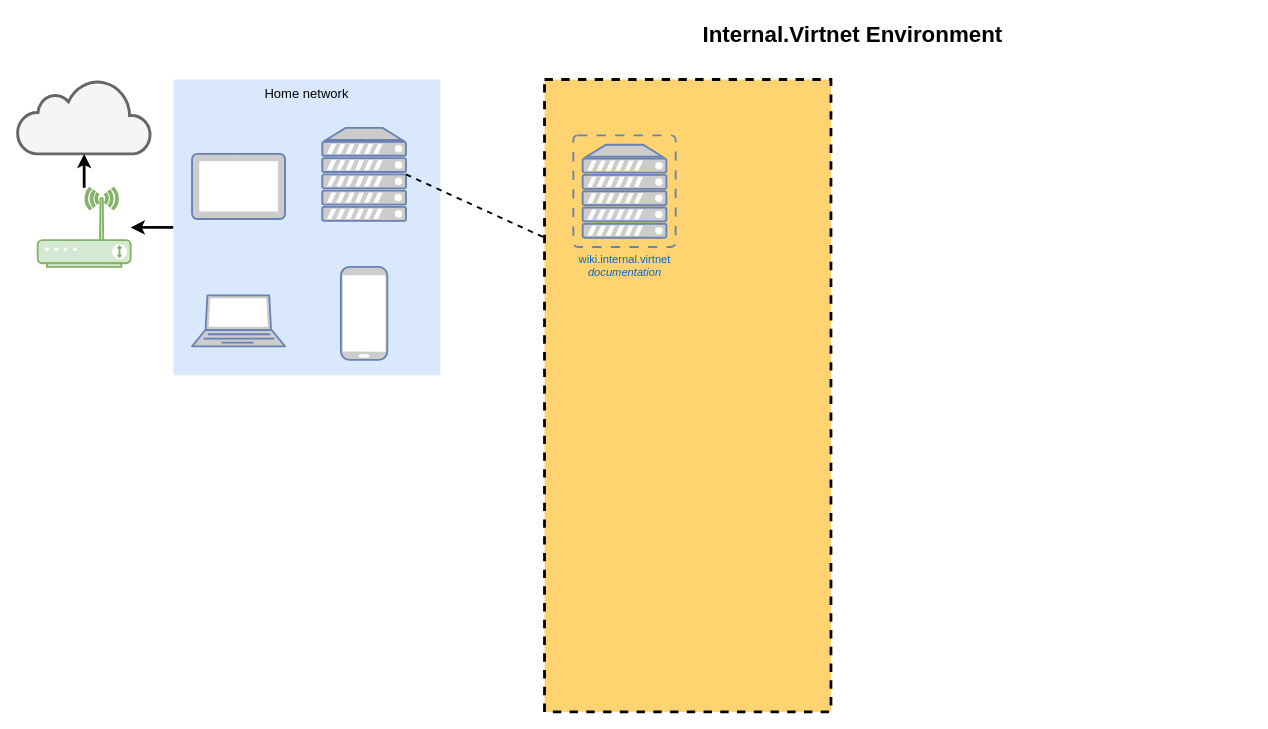
Image size: 1268x729. Some labels were removed from this diagram. Each missing label, with the box of its shape:
CentOS 8 hypervisor: (321, 126, 406, 221)
Libvirt Environment: (543, 78, 832, 713)
